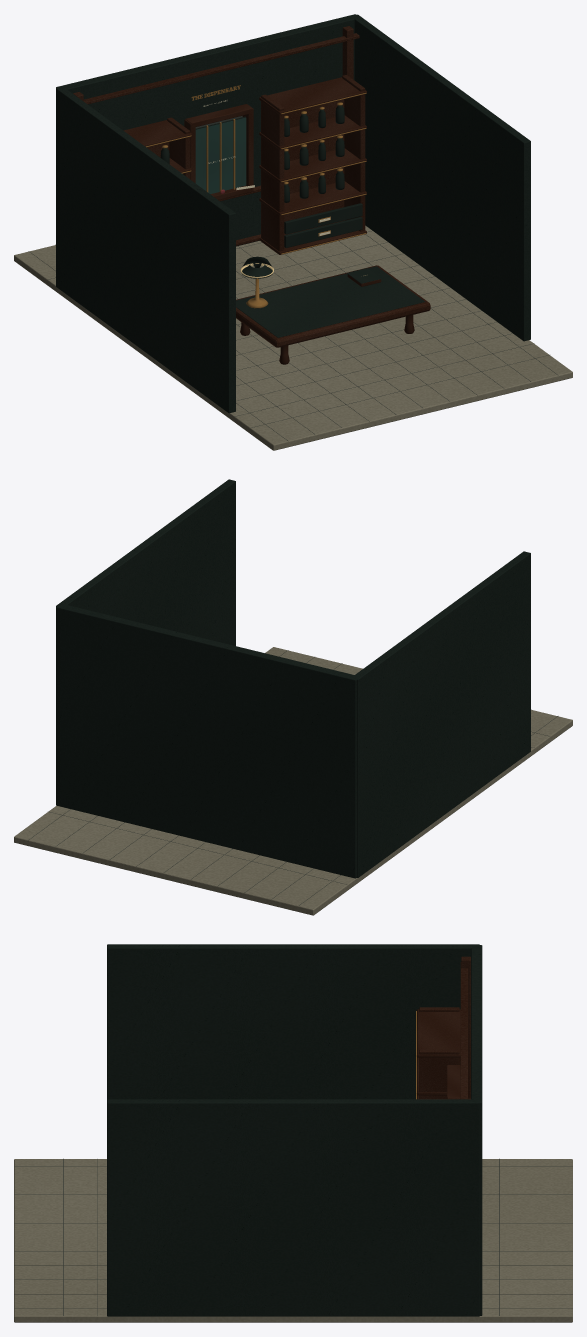
The model's file is sealed-dispensary.glb.
The picture shows the model from 3 angles, top to bottom: view 1: azimuth 30°, elevation 25°; view 2: azimuth 150°, elevation 25°; view 3: azimuth 270°, elevation 25°; orthographic projection. The views are drawn at different scales.
Parts seen in each view (by area): view 1: Vial_Dispensary / Museum green, Dispensary limestone floor, Vial_Dispensary / Walnut, Vial_Dispensary / Engraved charcoal, Dispensary stained hatch glass, Vial_Dispensary / Aged brass; view 2: Vial_Dispensary / Museum green, Dispensary limestone floor, Vial_Dispensary / Engraved charcoal; view 3: Vial_Dispensary / Museum green, Dispensary limestone floor, Vial_Dispensary / Walnut, Vial_Dispensary / Engraved charcoal.
Boxes of the visible parts, x1,y1,x2,y2 form: Vial_Dispensary / Museum green: (56, 14, 530, 413); Dispensary limestone floor: (14, 225, 572, 450); Vial_Dispensary / Walnut: (73, 26, 430, 364); Vial_Dispensary / Engraved charcoal: (28, 116, 558, 441); Dispensary stained hatch glass: (195, 117, 246, 193); Vial_Dispensary / Aged brass: (146, 85, 366, 308); Vial_Dispensary / Museum green: (56, 479, 530, 878); Dispensary limestone floor: (14, 647, 572, 915); Vial_Dispensary / Engraved charcoal: (28, 650, 557, 905); Vial_Dispensary / Museum green: (107, 944, 482, 1316); Dispensary limestone floor: (14, 1159, 572, 1322); Vial_Dispensary / Walnut: (417, 956, 470, 1099); Vial_Dispensary / Engraved charcoal: (14, 1158, 572, 1315).
Size of the model in its own units: 6.05 by 3.92 by 9.
Materials: 9 (6 with a texture image).
